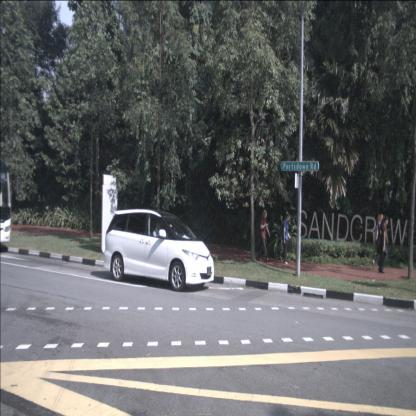human-pedestrian-adult: (372, 214, 386, 271), (376, 216, 389, 274), (258, 209, 270, 262), (280, 212, 291, 264)
vehicle-car: (102, 208, 214, 292)
